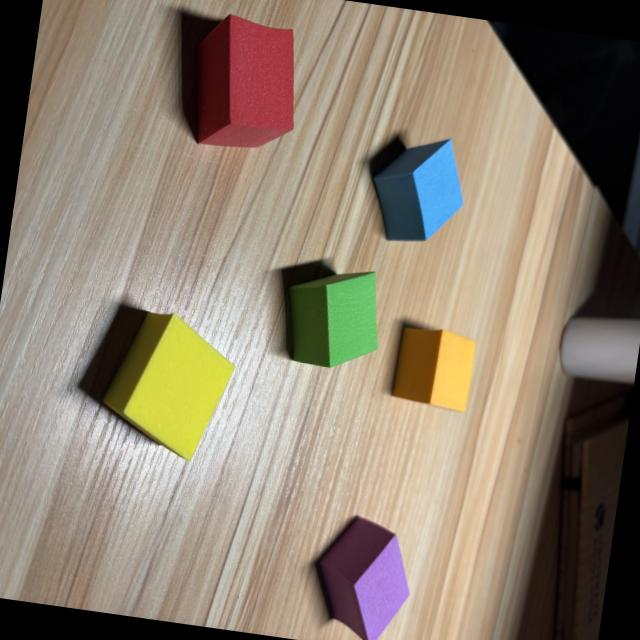bluecube: (372, 140, 462, 241)
greencube: (288, 272, 377, 367)
orangecube: (391, 327, 474, 412)
purplecube: (316, 517, 408, 640)
redcube: (195, 15, 293, 147)
yellowcube: (102, 312, 234, 460)
